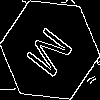M: (25, 25, 81, 86)
